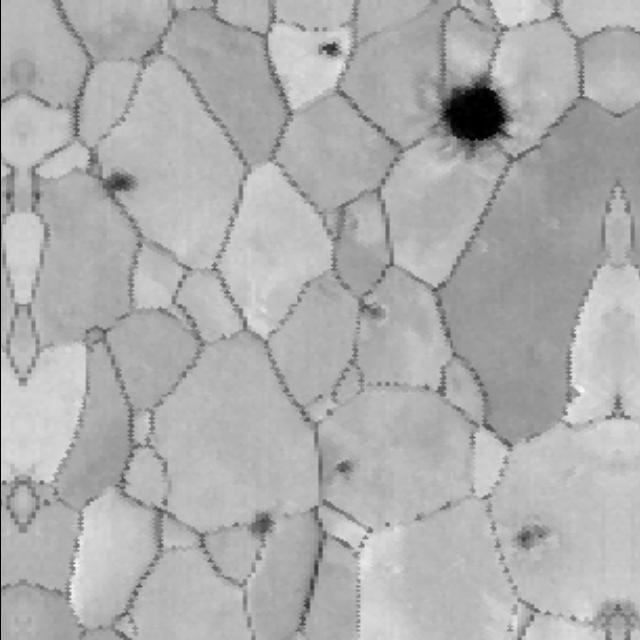good_void: (422, 66, 521, 163), (231, 489, 285, 547), (96, 156, 151, 208), (348, 284, 397, 334), (510, 511, 559, 553), (312, 33, 348, 64), (331, 451, 357, 484), (320, 403, 338, 421)
